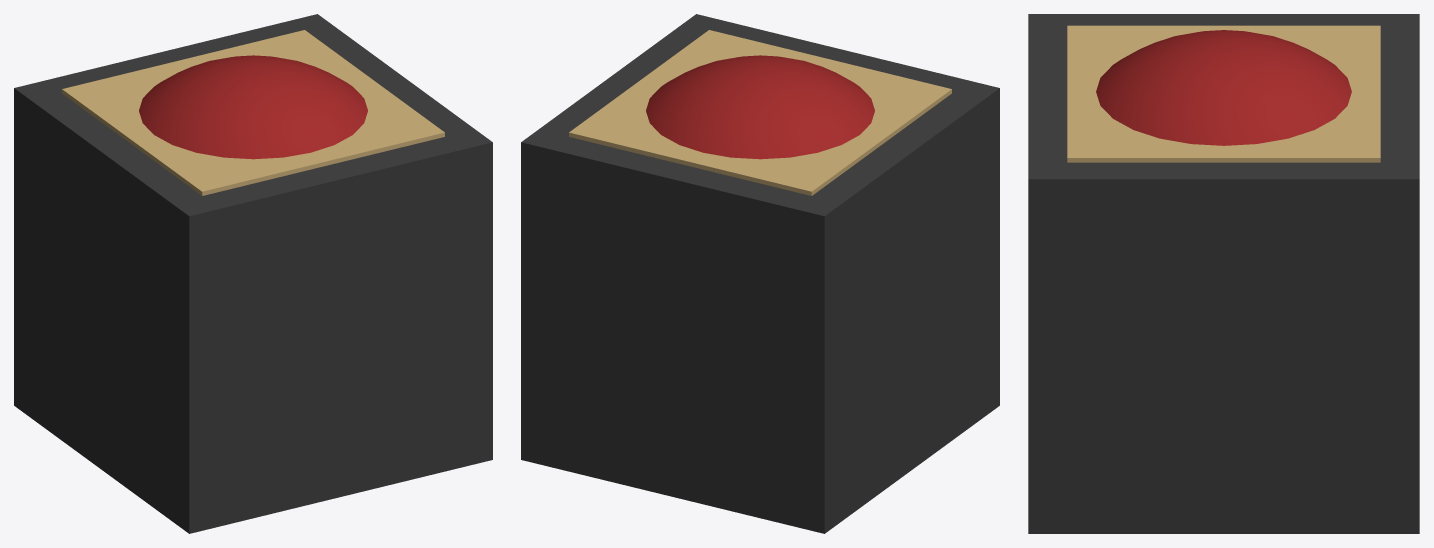
The model's file is button.fbx.
3 renders of one model, left to right at view 1: azimuth 30°, elevation 25°; view 2: azimuth 150°, elevation 25°; view 3: azimuth 270°, elevation 25°, orthographic. The views are drawn at different scales.
Visible parts, largest first — view 1: Box1, Button, Box; view 2: Box1, Button, Box; view 3: Box1, Button, Box.
Boxes of the visible parts, x1=… form: Box1: x1=14, y1=14, x2=492, y2=533; Button: x1=139, y1=55, x2=367, y2=159; Box: x1=62, y1=30, x2=444, y2=195; Box1: x1=521, y1=14, x2=999, y2=533; Button: x1=646, y1=55, x2=874, y2=159; Box: x1=569, y1=30, x2=951, y2=195; Box1: x1=1028, y1=14, x2=1419, y2=533; Button: x1=1096, y1=30, x2=1351, y2=145; Box: x1=1067, y1=25, x2=1380, y2=162.
Size of the model in its own units: 1 by 1.14 by 1.
